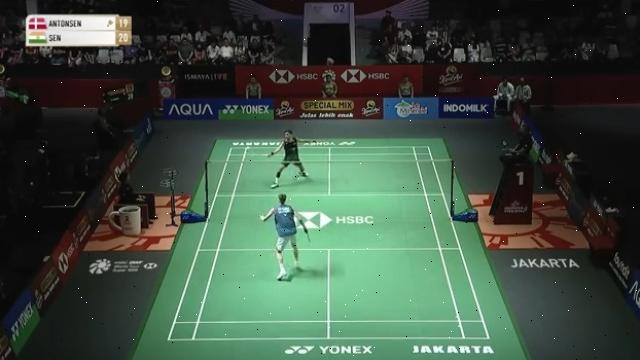Shuttlecock: (243, 146, 253, 154)
